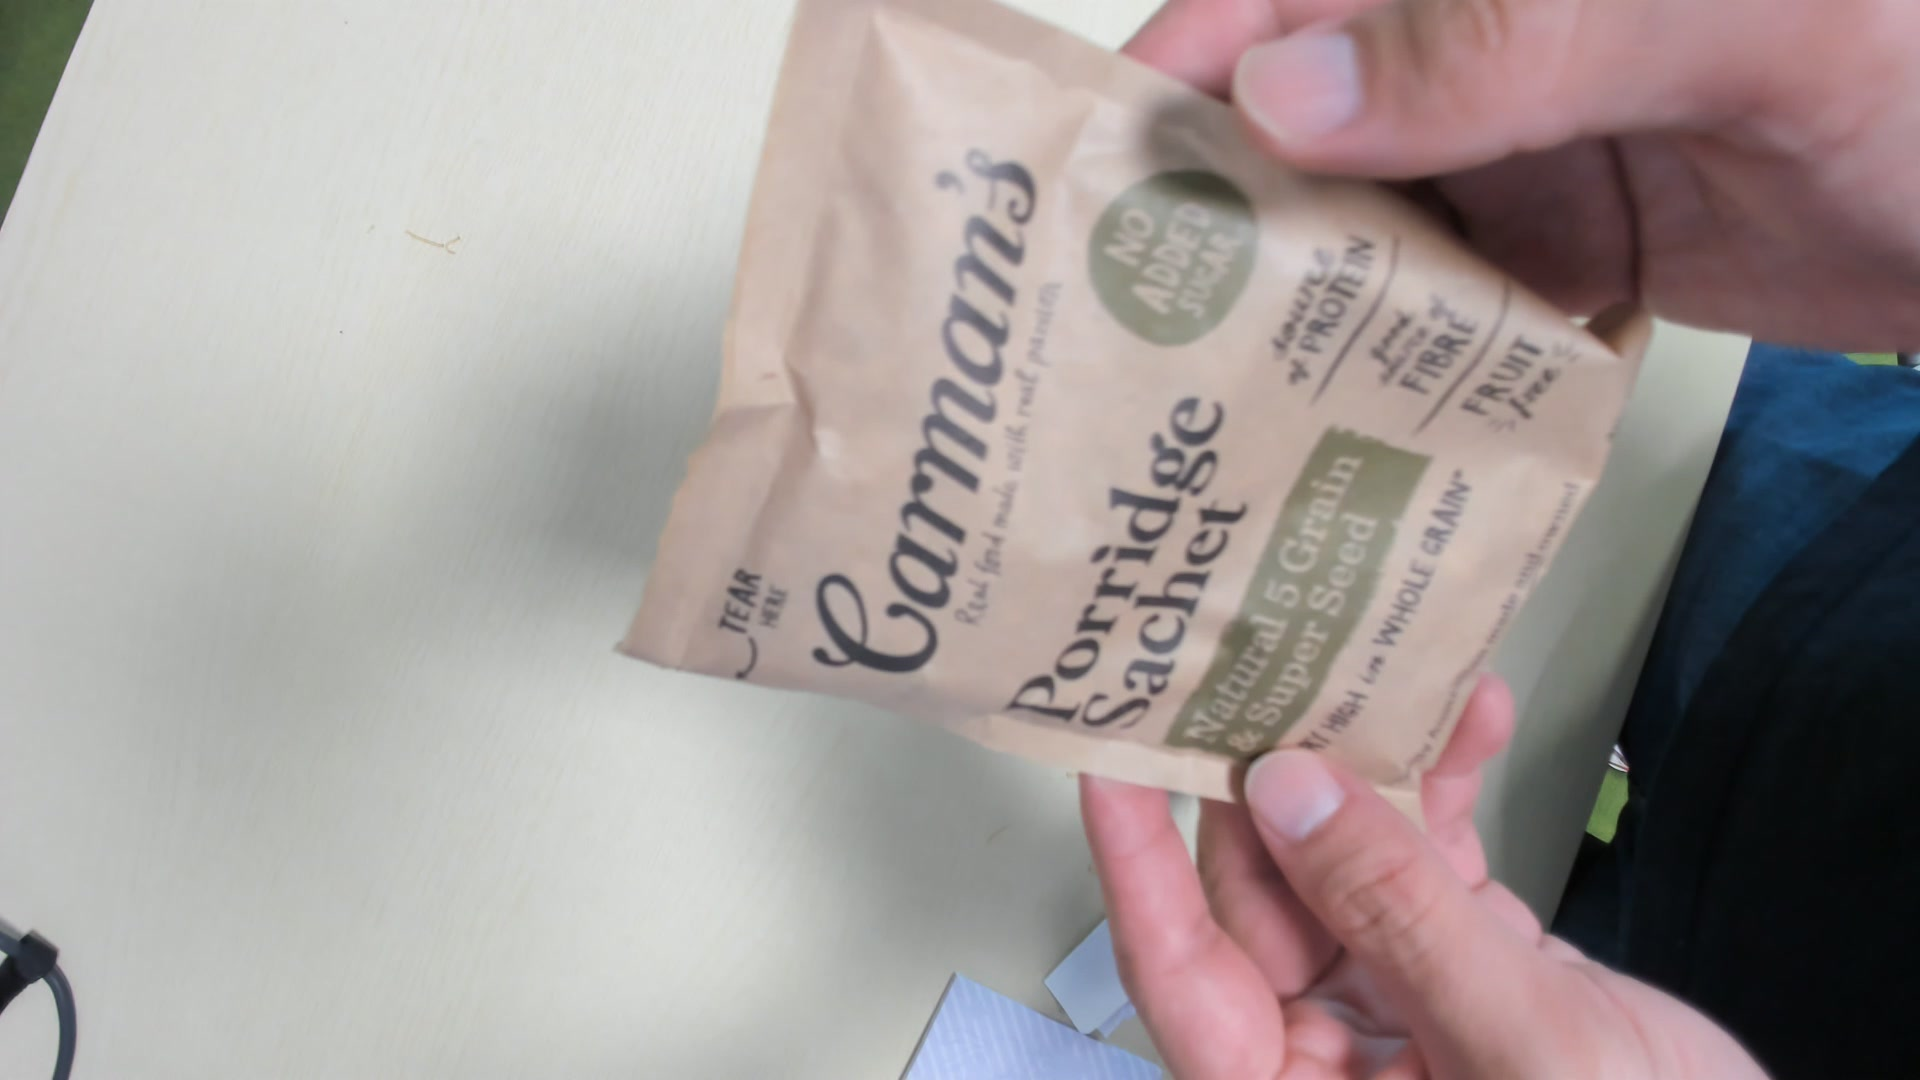InstantMeals_0-99g_NonHalal_NonHealthy: (616, 3, 1634, 835)
